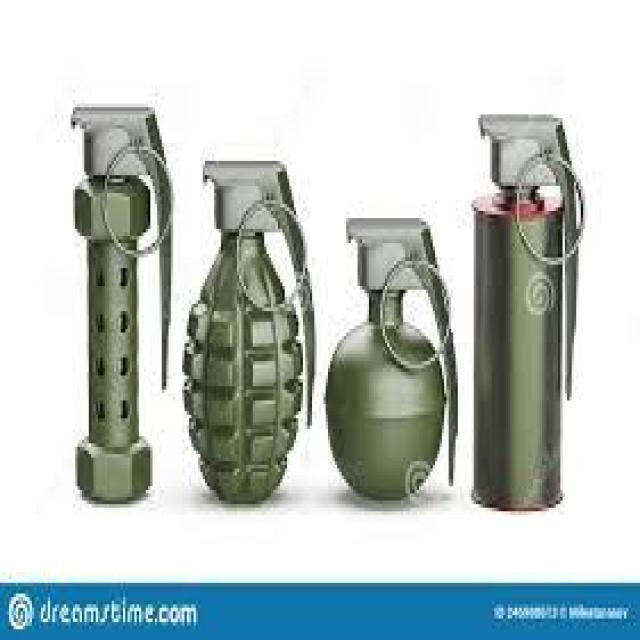grenade: (56, 112, 594, 524)
